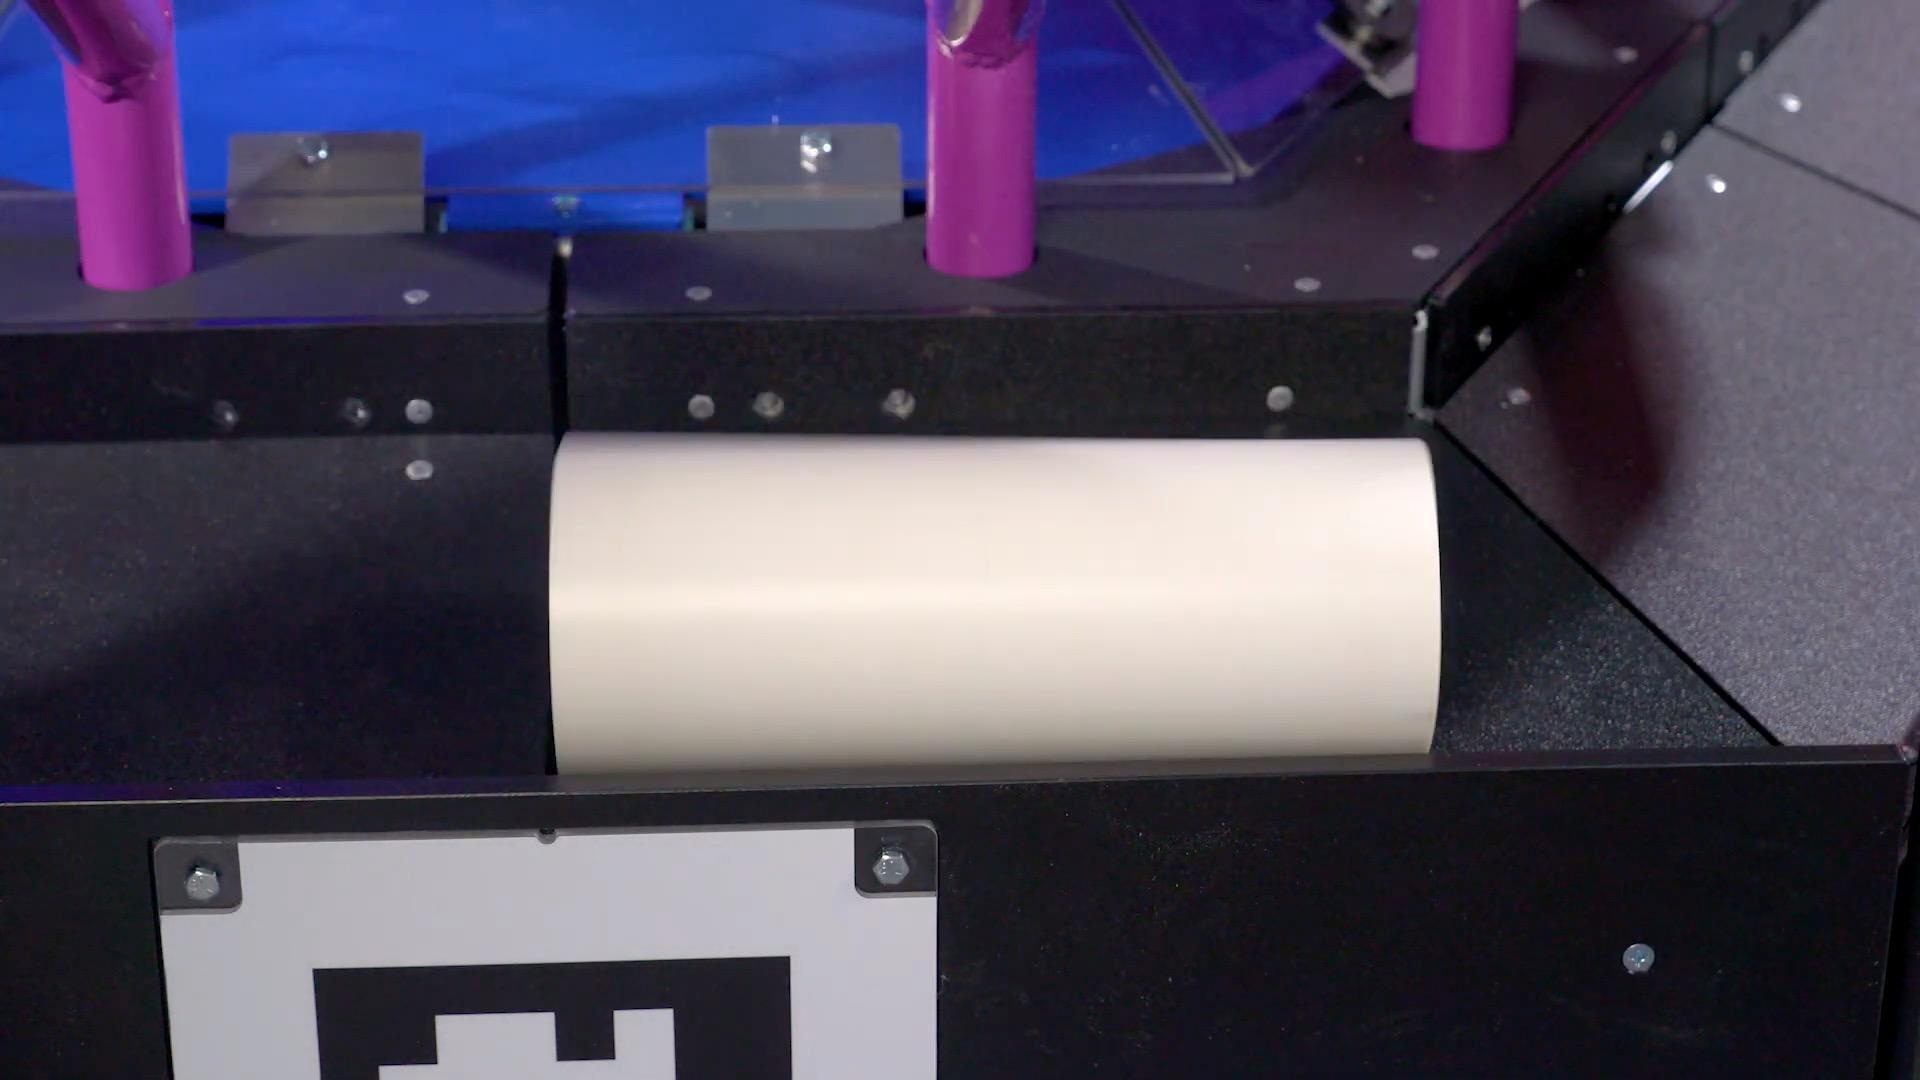CORAL: (546, 429, 1444, 775)
